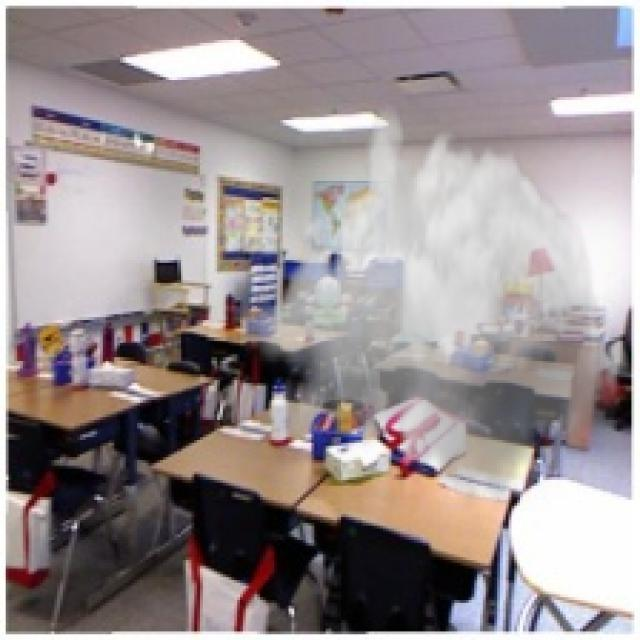smoke: (237, 100, 632, 511)
